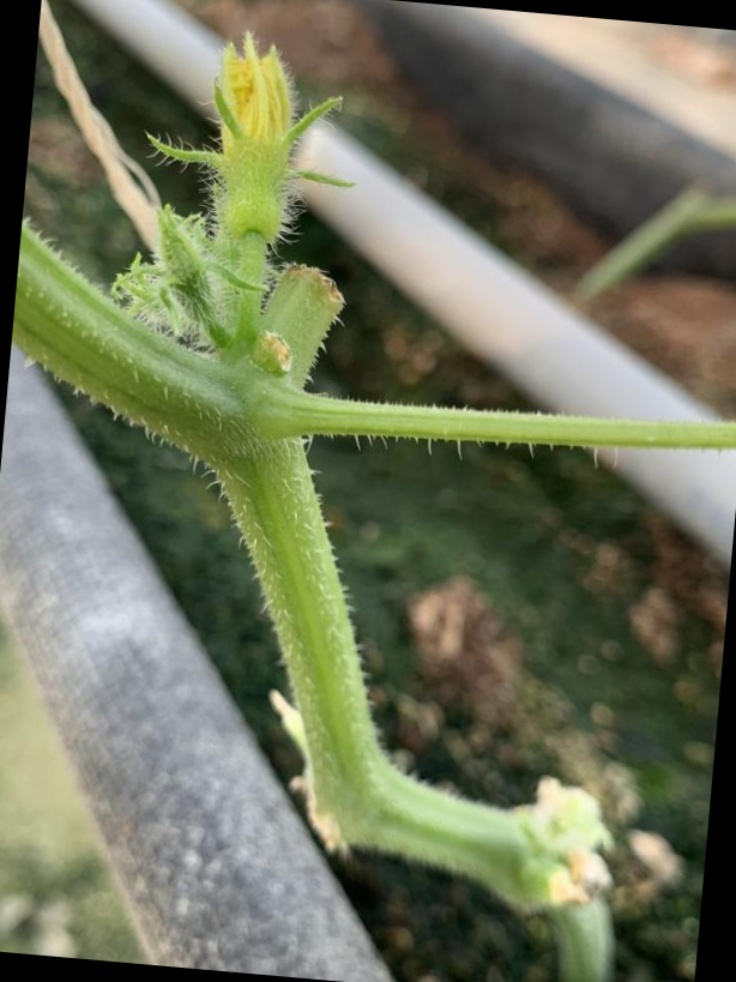bud: (179, 39, 329, 254)
